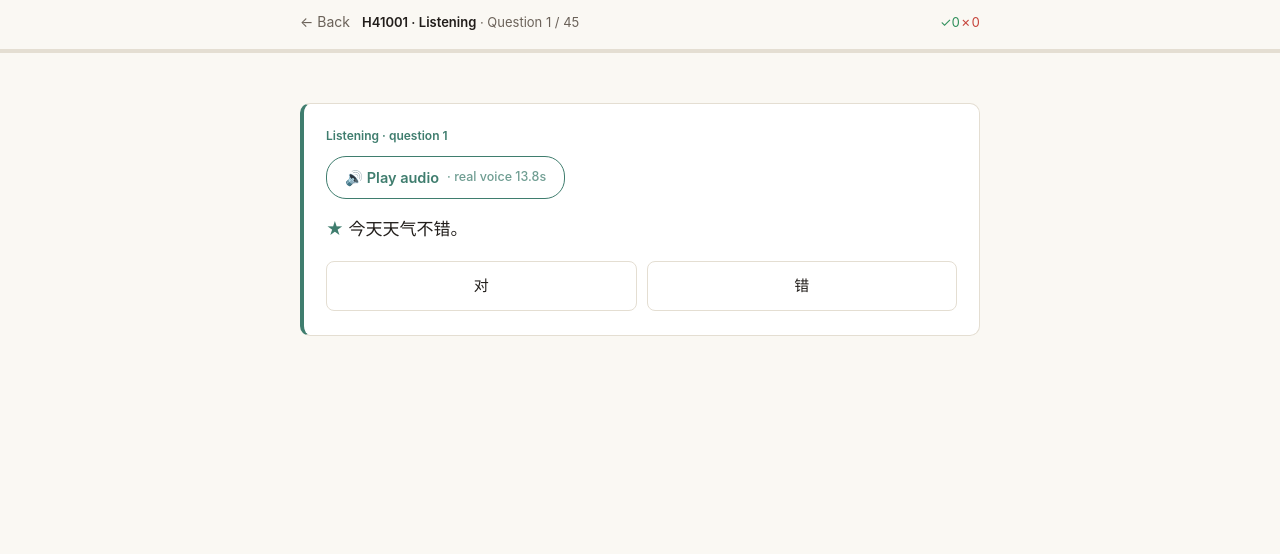
Scenario: QuizShellComponent › records a right answer, shows next, and advances the running score
The width and height of the screenshot is (1280, 554).
Click the button with class "optbtn" showing "对".
click(481, 286)  # box [326,260,636,310]
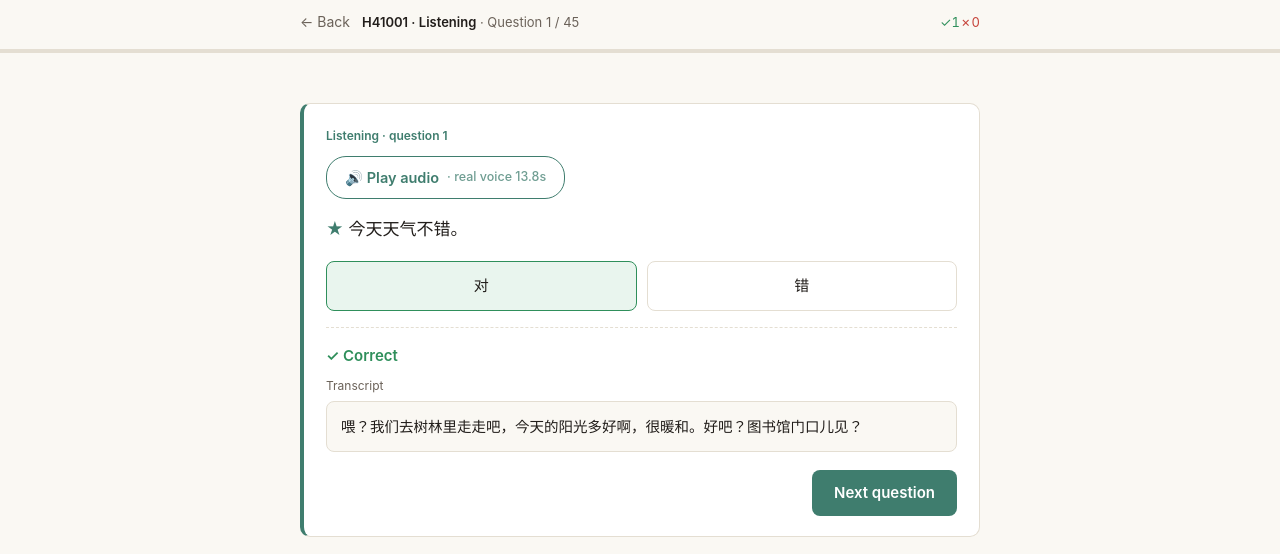
expect the button "Next question" is shown: met, box [812,470,957,516]
